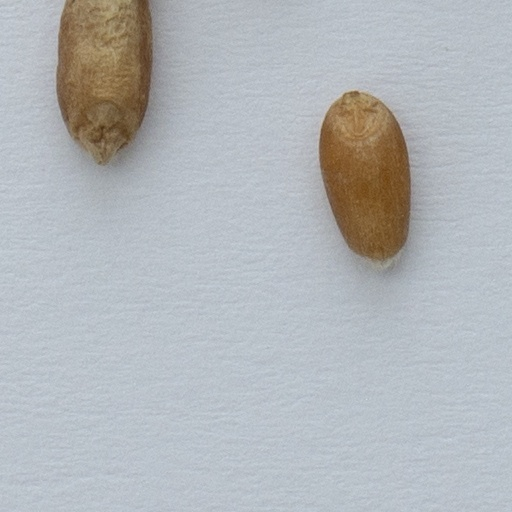Wheat-grain-poly: (317, 86, 414, 267)
